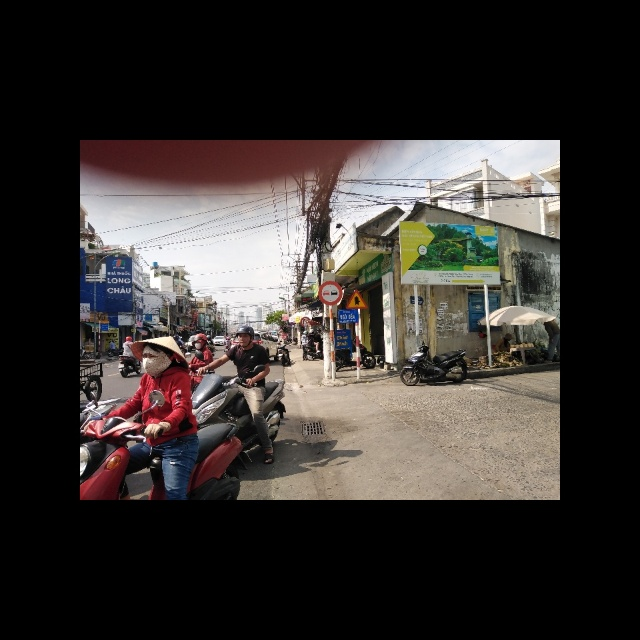Cấm vượt: (318, 281, 343, 306)
Giao nhau với đường không ưu tiên: (346, 287, 368, 309)
